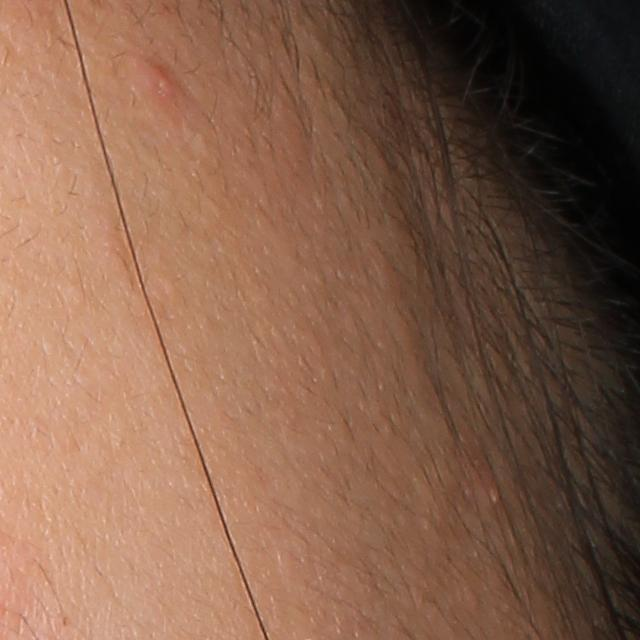papule: (144, 60, 179, 107)
